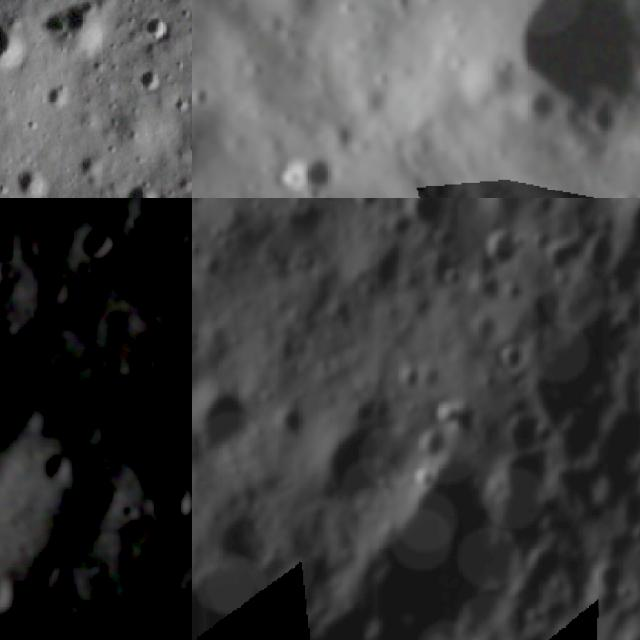crater: (463, 0, 640, 159), (311, 421, 389, 512), (192, 376, 266, 459), (284, 142, 356, 198), (33, 0, 109, 53), (148, 469, 192, 527), (27, 262, 75, 310), (484, 227, 528, 270), (116, 162, 165, 198), (116, 343, 168, 374), (80, 221, 120, 259), (42, 446, 80, 486), (406, 198, 452, 230), (496, 340, 533, 379), (0, 560, 22, 622), (138, 11, 176, 46), (390, 358, 428, 393), (406, 462, 445, 495), (418, 429, 456, 462), (192, 76, 222, 116), (470, 313, 504, 347), (498, 276, 532, 310), (439, 261, 473, 295), (120, 494, 141, 520)
